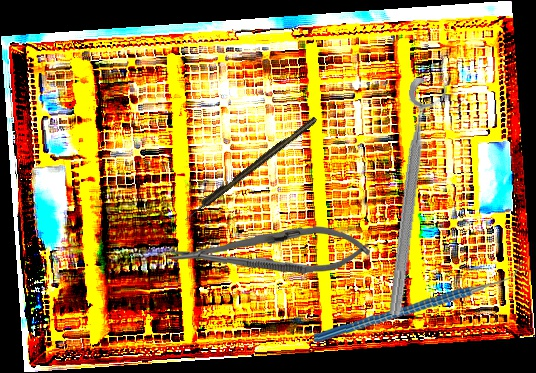Chopper: (313, 252, 524, 350)
Fixation Ring: (382, 77, 450, 318)
Hook Surgical: (181, 115, 319, 223)
Needle Holder: (169, 223, 371, 279)
